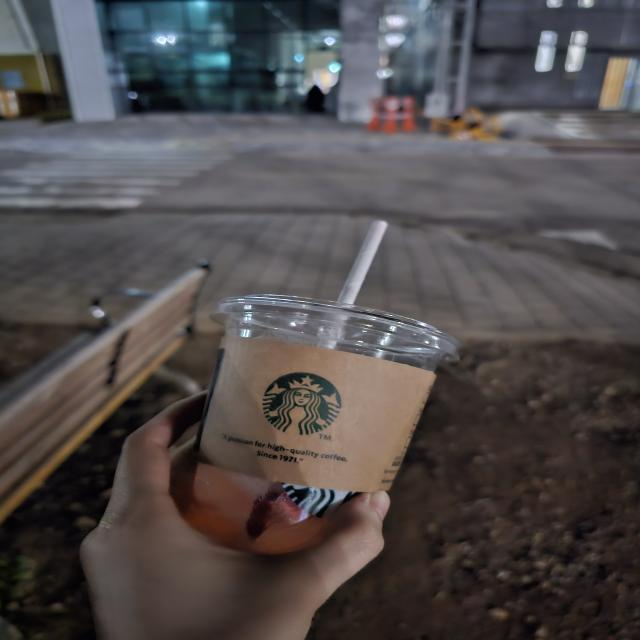cup: (167, 288, 465, 570)
